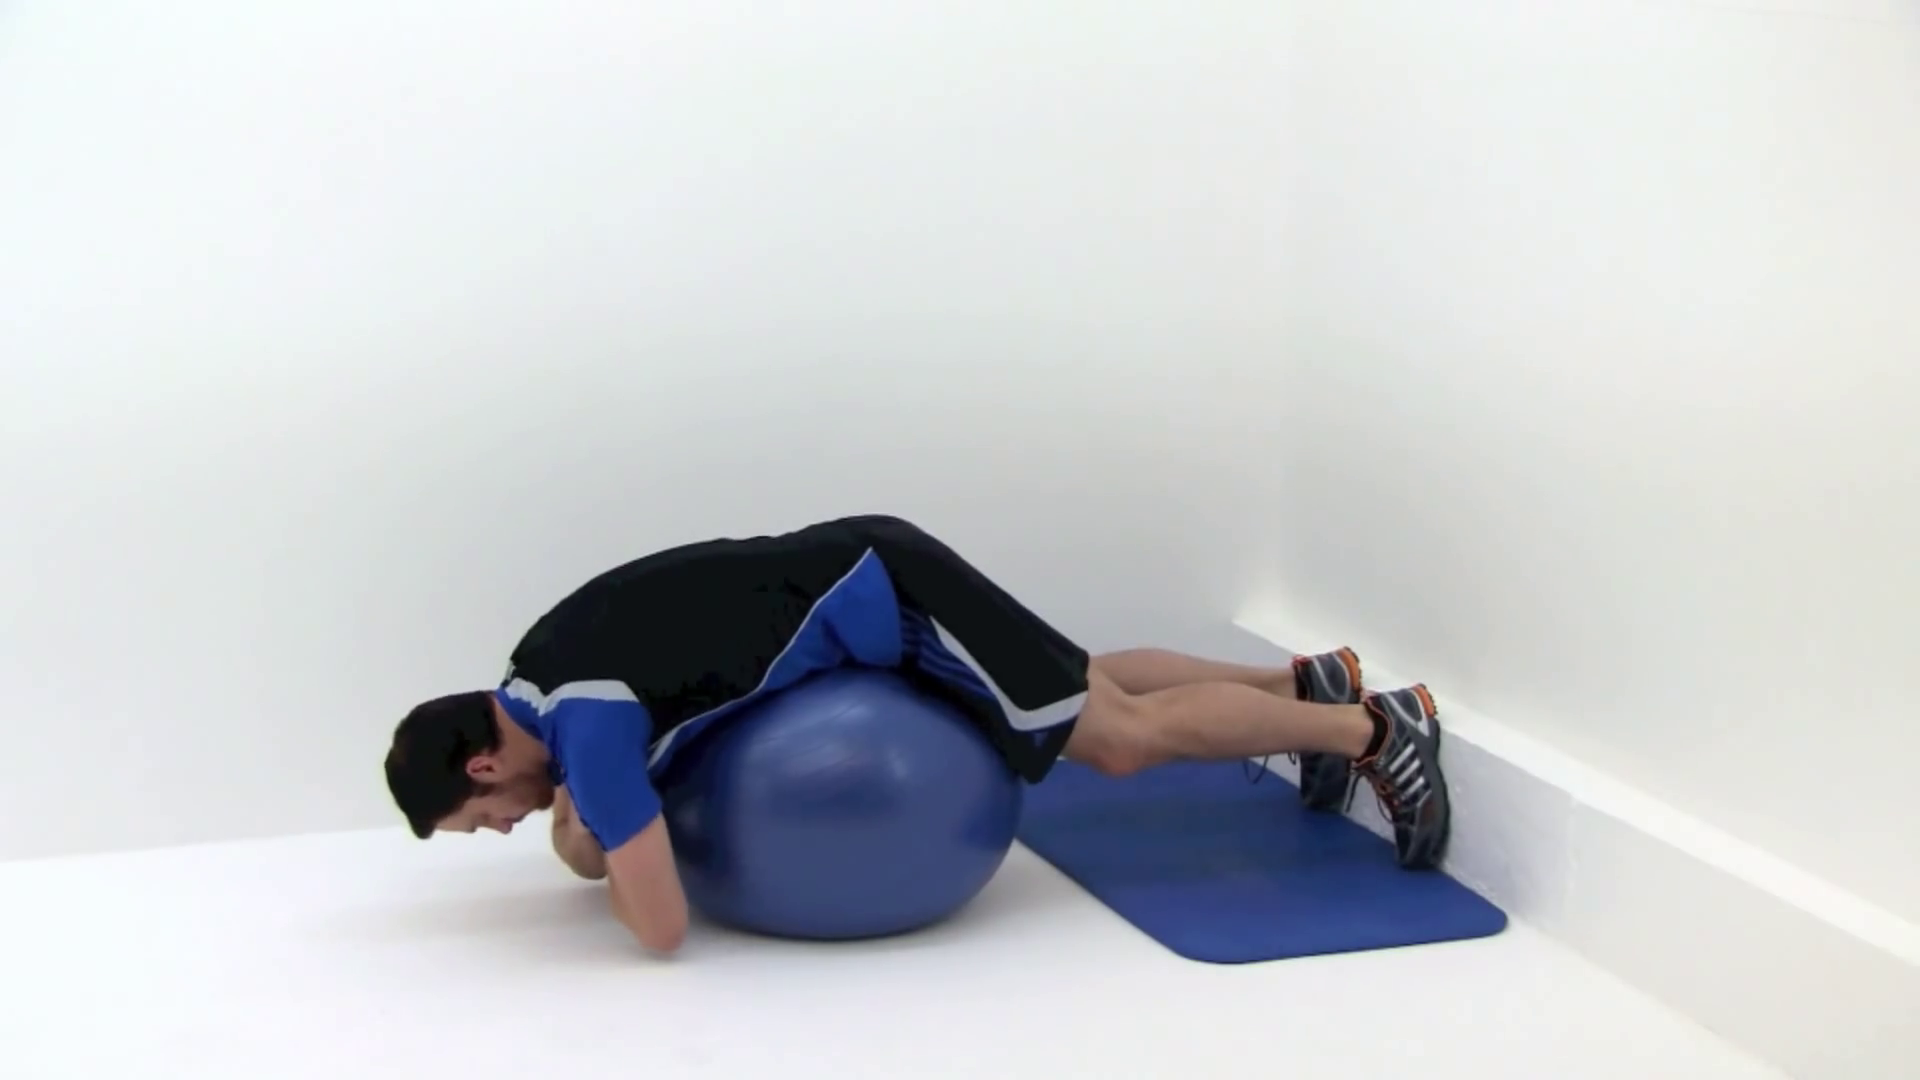yogaball: (641, 670, 1040, 953)
